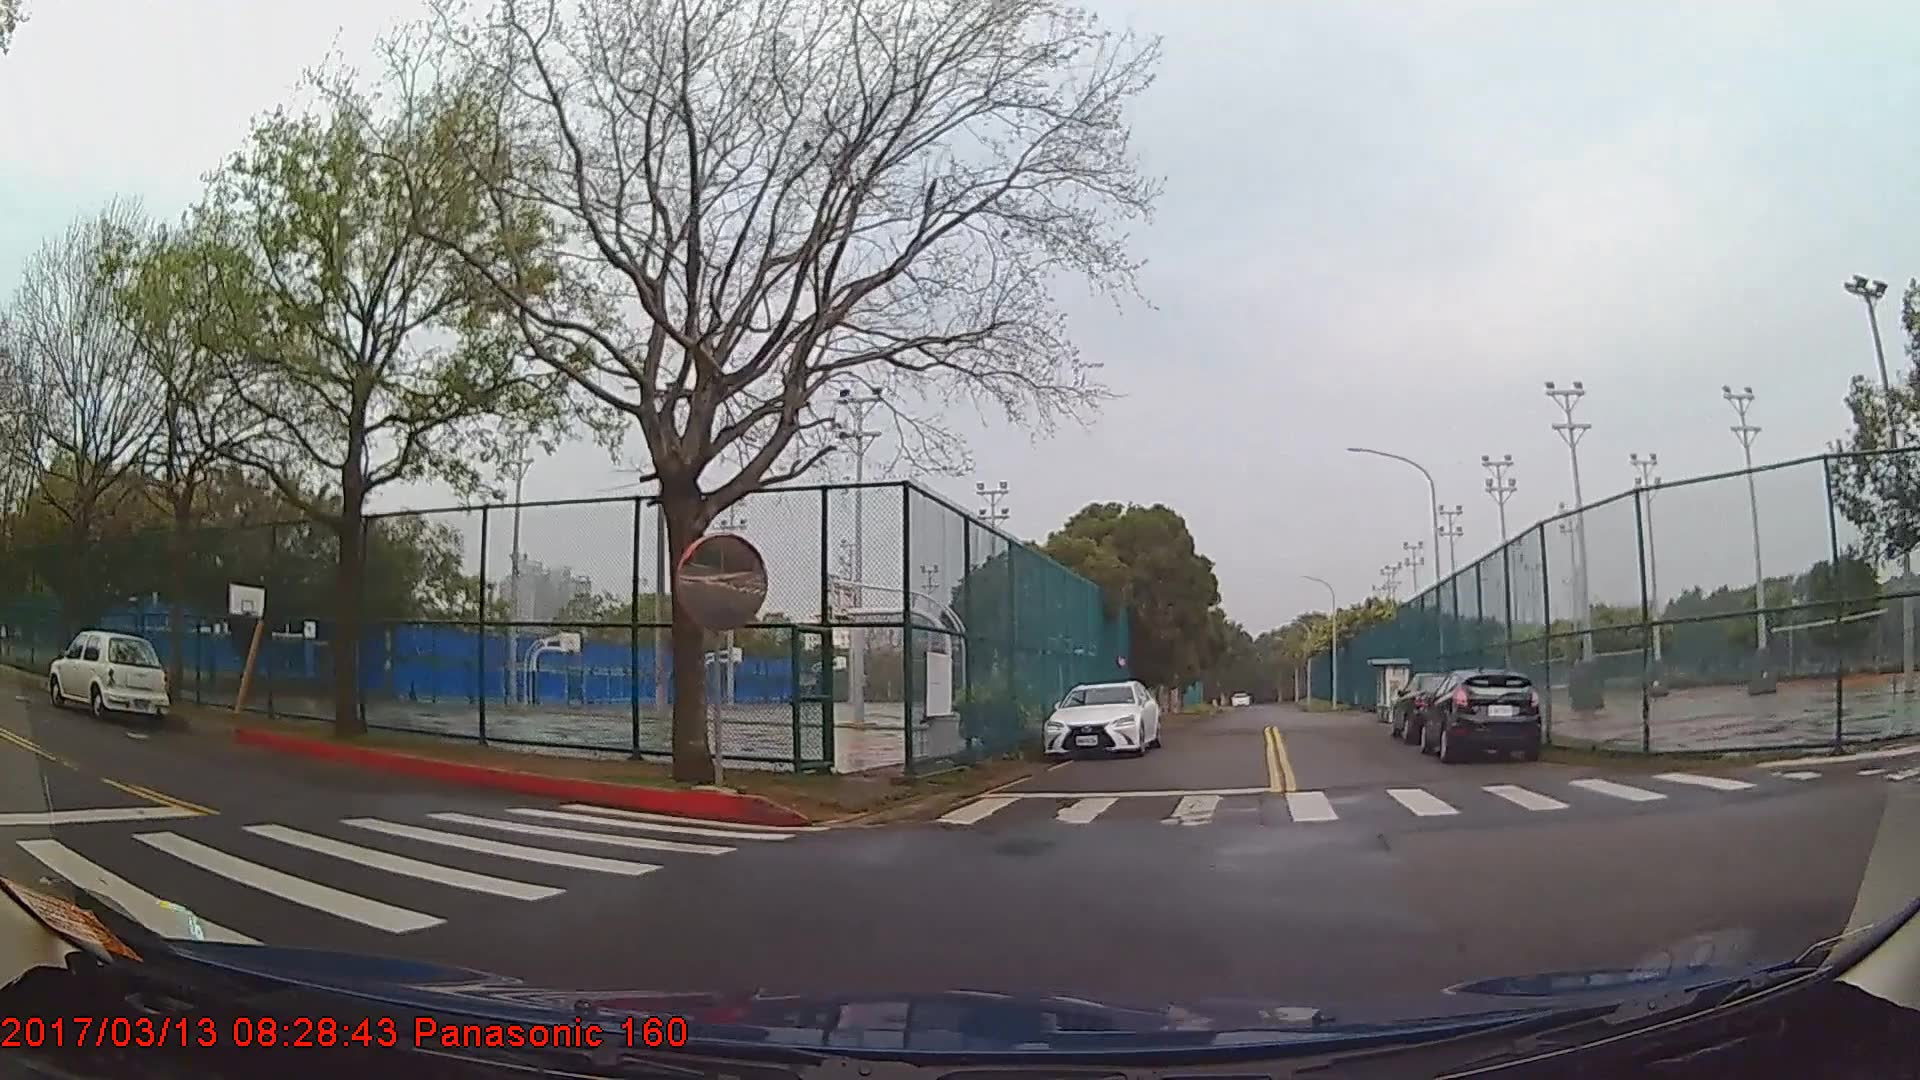vehicle: (45, 626, 175, 720), (1423, 669, 1547, 764), (1044, 680, 1159, 762)
